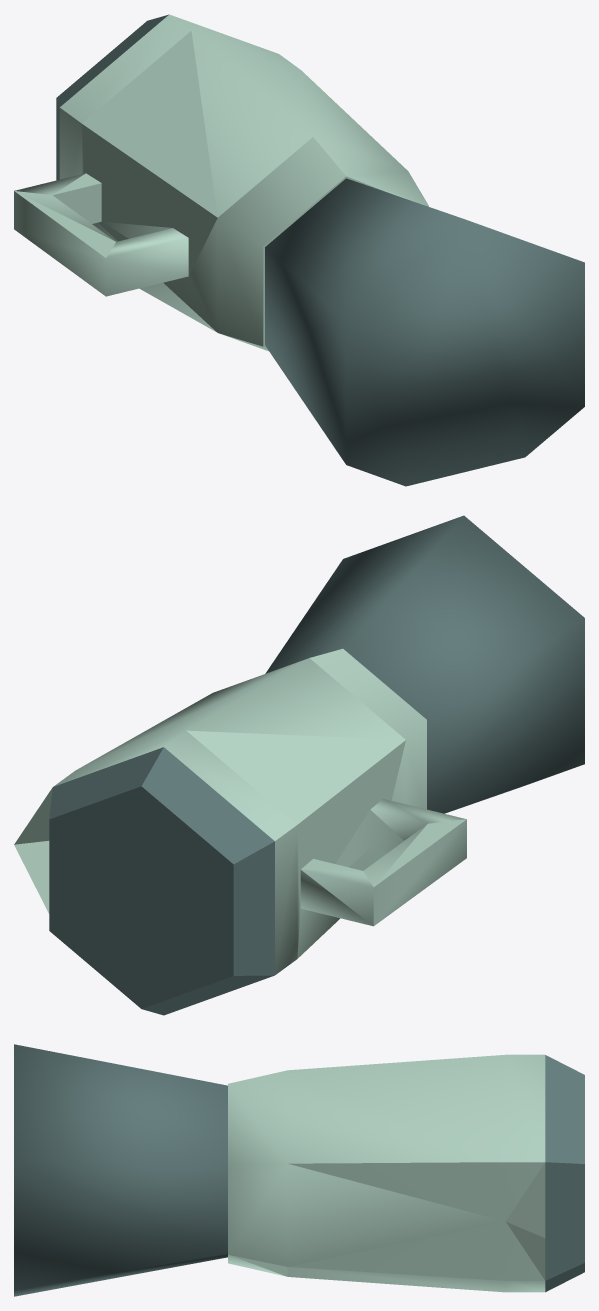
Rendered from kitchenBlender.obj.
3 renders of one model, top to bottom at view 1: azimuth 30°, elevation 25°; view 2: azimuth 150°, elevation 25°; view 3: azimuth 270°, elevation 25°, orthographic. The views are drawn at different scales.
Visible parts, largest first — view 1: kitchenBlender; view 2: kitchenBlender; view 3: kitchenBlender.
Part boxes in pixels (x1,y1,x2,y2): kitchenBlender: (14,14,584,486); kitchenBlender: (14,515,584,1015); kitchenBlender: (14,1044,584,1296).
Bounding box in the file's own units: 0.1358 × 0.1091 × 0.2275.
